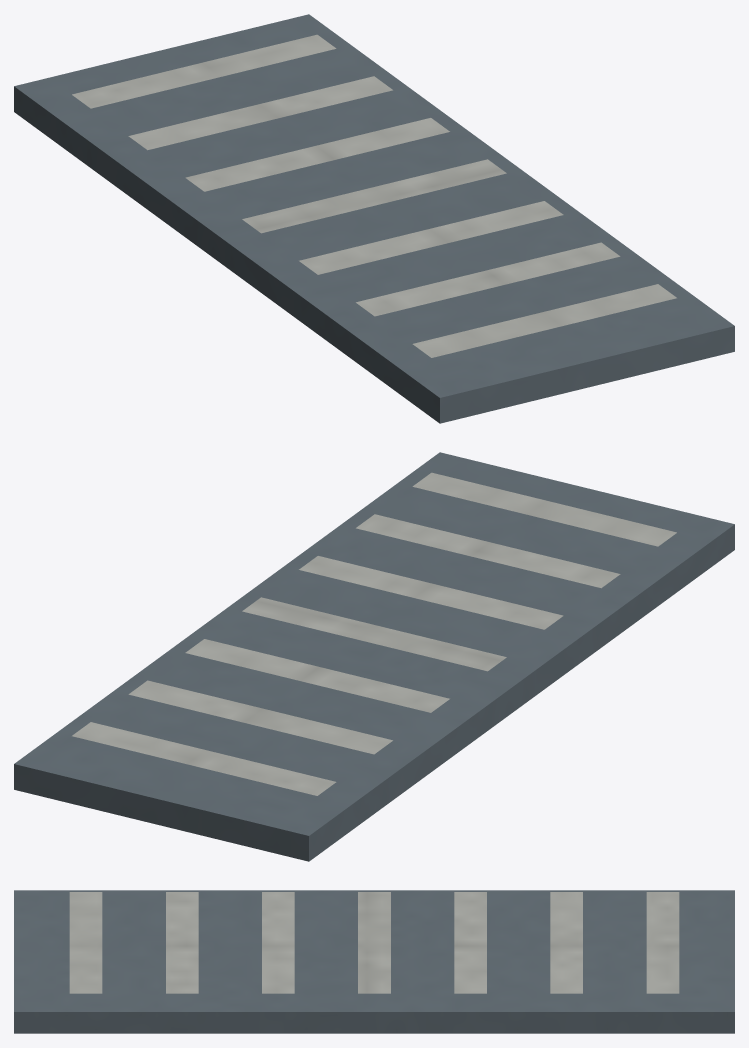
File: q01-drain.glb
The picture shows the model from 3 angles, top to bottom: view 1: azimuth 30°, elevation 25°; view 2: azimuth 150°, elevation 25°; view 3: azimuth 270°, elevation 25°; orthographic projection. The views are drawn at different scales.
Size of the model in its own units: 0.3 by 0.0345 by 0.75.
Materials: 2 (2 with a texture image).
